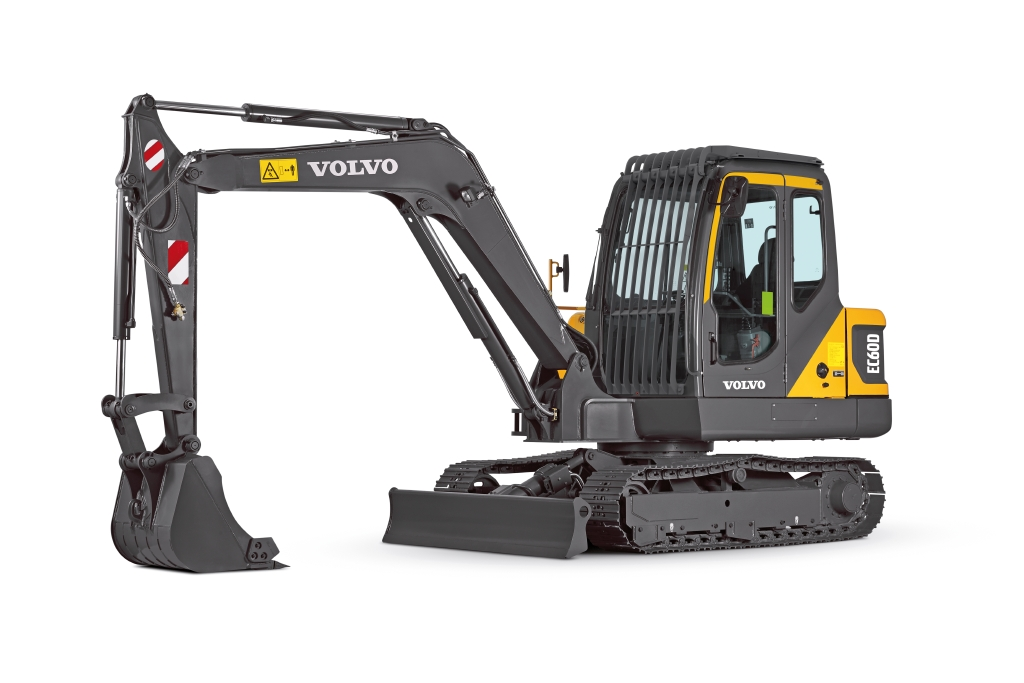excavator: (99, 81, 919, 575)
